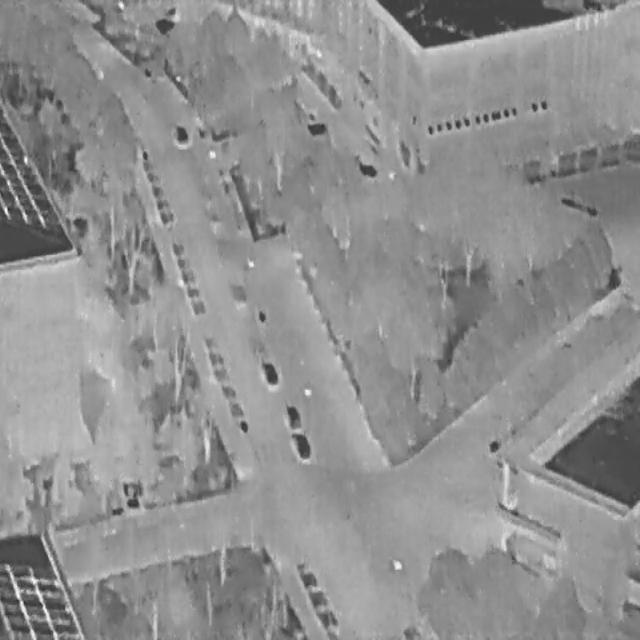Car: (288, 425, 313, 463), (260, 357, 278, 388), (284, 401, 301, 430), (174, 122, 188, 146)
